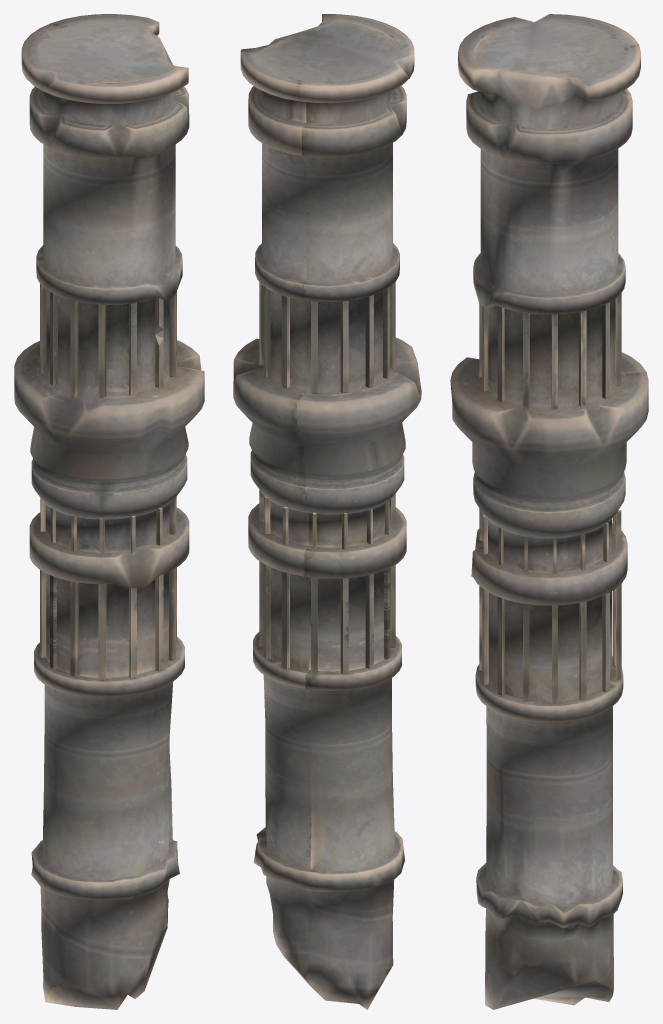
3 renders of one model, left to right at view 1: azimuth 30°, elevation 25°; view 2: azimuth 150°, elevation 25°; view 3: azimuth 270°, elevation 25°, orthographic. The views are drawn at different scales.
Visible parts, largest first — view 1: 柱子.005; view 2: 柱子.005; view 3: 柱子.005.
Part boxes in pixels (x1,y1,x2,y2): 柱子.005: [14, 14, 204, 1009]; 柱子.005: [233, 14, 421, 1009]; 柱子.005: [450, 14, 648, 1009].
Bounding box in the file's own units: 1985 × 10895 × 1998.
